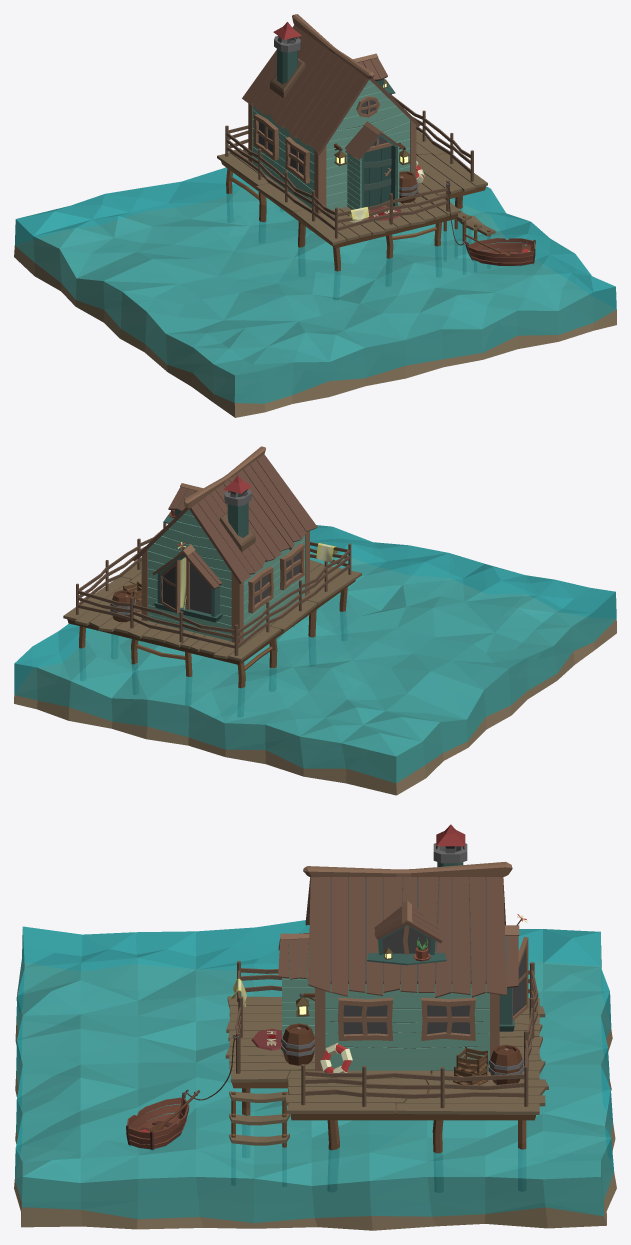
File: sea_house.glb
3 renders of one model, top to bottom at view 1: azimuth 30°, elevation 25°; view 2: azimuth 150°, elevation 25°; view 3: azimuth 270°, elevation 25°, orthographic. The views are drawn at different scales.
Parts seen in each view (by area): view 1: pasted__pPlane7, pCube96, pCube127, pCube1, pCube92, pCube173, pCube95, pCube90, pCube94, pCube91, pCube93, pPyramid9 (+11 smaller); view 2: pasted__pPlane7, pCube86, pCube127, pCube96, pCube1, pCube64, pCube94, pCube173, pCube95, pCube87, pCube92, pCube93 (+13 smaller); view 3: pasted__pPlane7, pCube96, pCube86, pCube173, pCube88, pCube1, pCube227, pCube95, pCube94, pCube87, pCube93, pCube24 (+37 smaller).
Boxes of the visible parts, x1,y1,x2,y2 form: pasted__pPlane7: (14,167,616,417); pCube96: (310,73,420,155); pCube127: (248,103,416,213); pCube1: (221,161,485,248); pCube92: (283,53,339,134); pCube173: (292,14,374,78); pCube95: (302,68,359,146); pCube90: (270,43,326,122); pCube94: (297,63,352,141); pCube91: (275,49,332,128); pCube93: (289,58,346,138); pPyramid9: (469,243,533,262); pasted__pPlane7: (14,525,616,795); pCube86: (132,503,250,583); pCube127: (141,531,309,643); pCube96: (256,454,317,531); pCube1: (67,579,355,664); pCube64: (190,563,211,614); pCube94: (243,465,301,542); pCube173: (183,446,265,508); pCube95: (250,460,306,538); pCube87: (198,498,255,574); pCube92: (229,474,289,551); pCube93: (237,470,294,549); pasted__pPlane7: (14,920,616,1230); pCube96: (305,877,330,992); pCube86: (486,877,506,995); pCube173: (303,861,512,877); pCube88: (452,877,470,994); pCube1: (232,1073,535,1120); pCube227: (325,878,489,1073); pCube95: (331,877,347,996); pCube94: (349,877,365,992); pCube87: (469,877,485,997); pCube93: (366,877,382,995); pCube24: (396,1103,539,1114).
Bounding box in the file's own units: 26.17 × 14.29 × 26.36.
